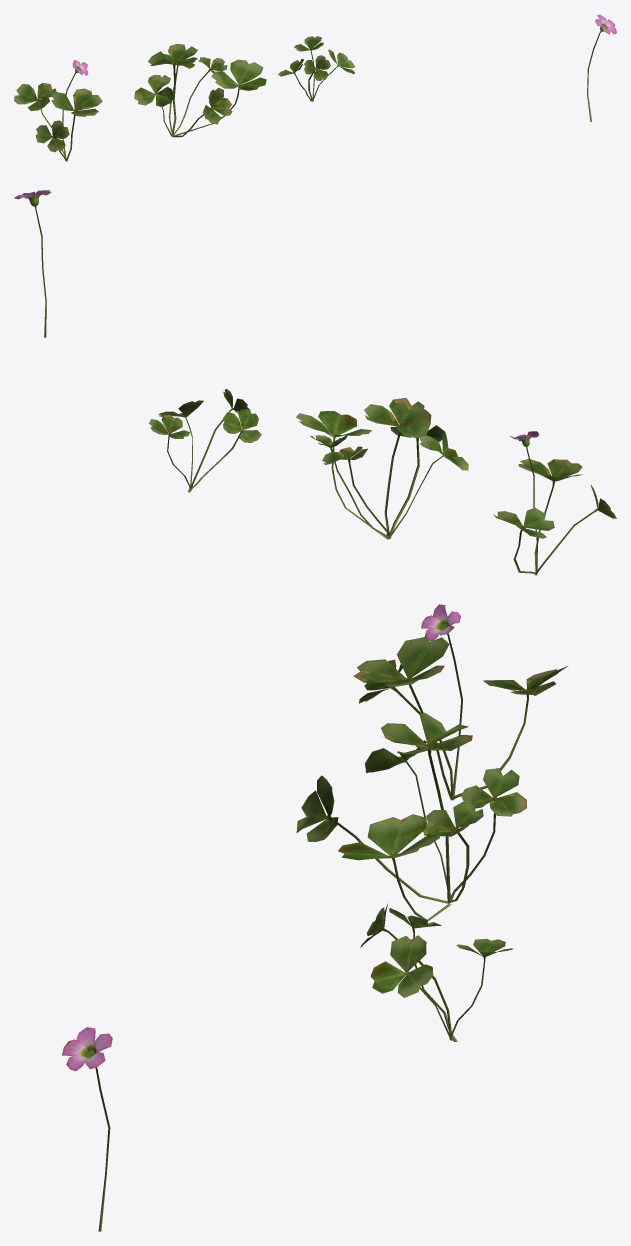
Rendered from sorrel.glb.
The picture shows the model from 3 angles, top to bottom: view 1: azimuth 30°, elevation 25°; view 2: azimuth 150°, elevation 25°; view 3: azimuth 270°, elevation 25°; orthographic projection. The views are drawn at different scales.
Visible parts, largest first — view 1: shrub_sorrel_01_b, shrub_sorrel_01_a, shrub_sorrel_01_c, shrub_sorrel_01_k; view 2: shrub_sorrel_01_b, shrub_sorrel_01_a, shrub_sorrel_01_c, shrub_sorrel_01_k; view 3: shrub_sorrel_01_b, shrub_sorrel_01_a, shrub_sorrel_01_c, shrub_sorrel_01_k.
Boxes of the visible parts, <box> form: shrub_sorrel_01_b: <box>134,44,266,137</box>; shrub_sorrel_01_a: <box>14,60,102,161</box>; shrub_sorrel_01_c: <box>278,36,355,101</box>; shrub_sorrel_01_k: <box>587,14,616,121</box>; shrub_sorrel_01_b: <box>296,398,468,539</box>; shrub_sorrel_01_a: <box>493,431,616,575</box>; shrub_sorrel_01_c: <box>149,389,261,492</box>; shrub_sorrel_01_k: <box>14,190,51,337</box>; shrub_sorrel_01_b: <box>296,713,526,921</box>; shrub_sorrel_01_a: <box>353,604,567,800</box>; shrub_sorrel_01_c: <box>360,904,512,1041</box>; shrub_sorrel_01_k: <box>62,1027,112,1231</box>.
Size of the model in its own units: 0.2972 by 0.058 by 0.1299.
Materials: 1 (1 with a texture image).
